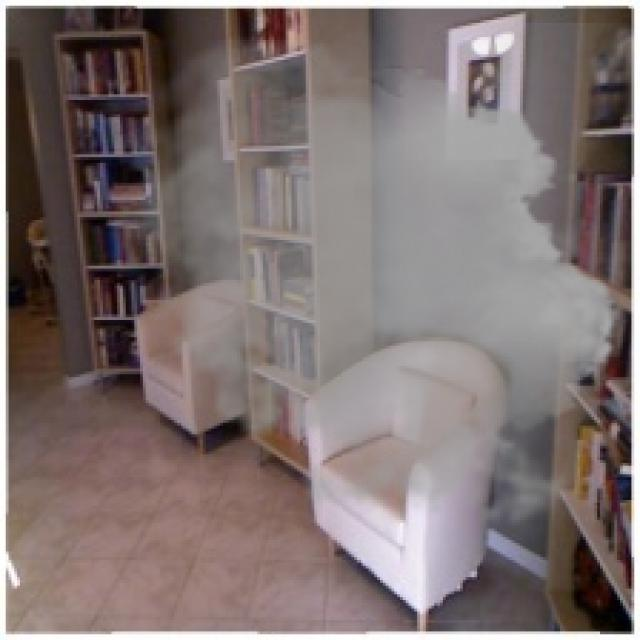smoke: (94, 23, 632, 543)
